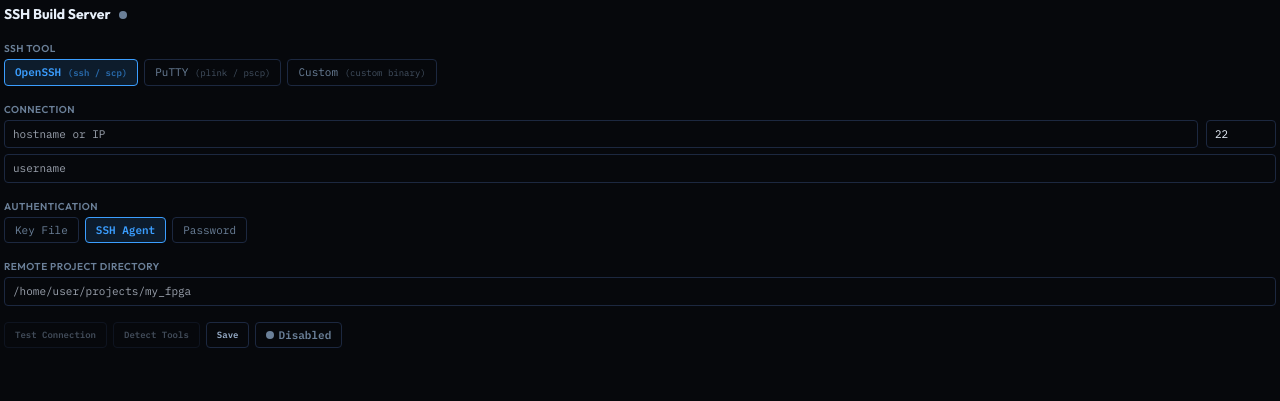
Test: SshPanel › shows password input when Password auth selected
The width and height of the screenshot is (1280, 401).
Click the text "Password". click: (210, 230)
box: top-left (172, 216), bottom-right (247, 243)
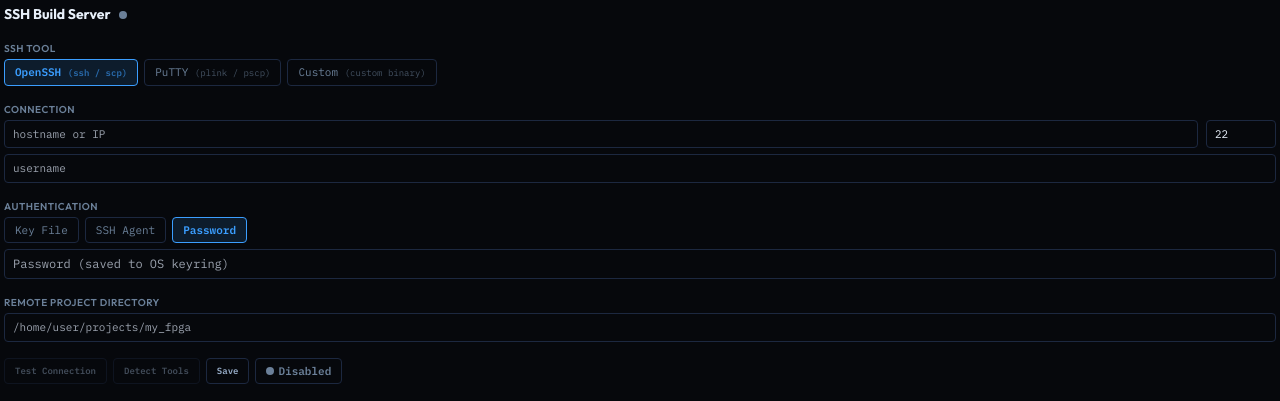
Expected: the password field with placeholder "Password (saved to OS keyring)" is shown, top-left (4, 249), bottom-right (1276, 279)
